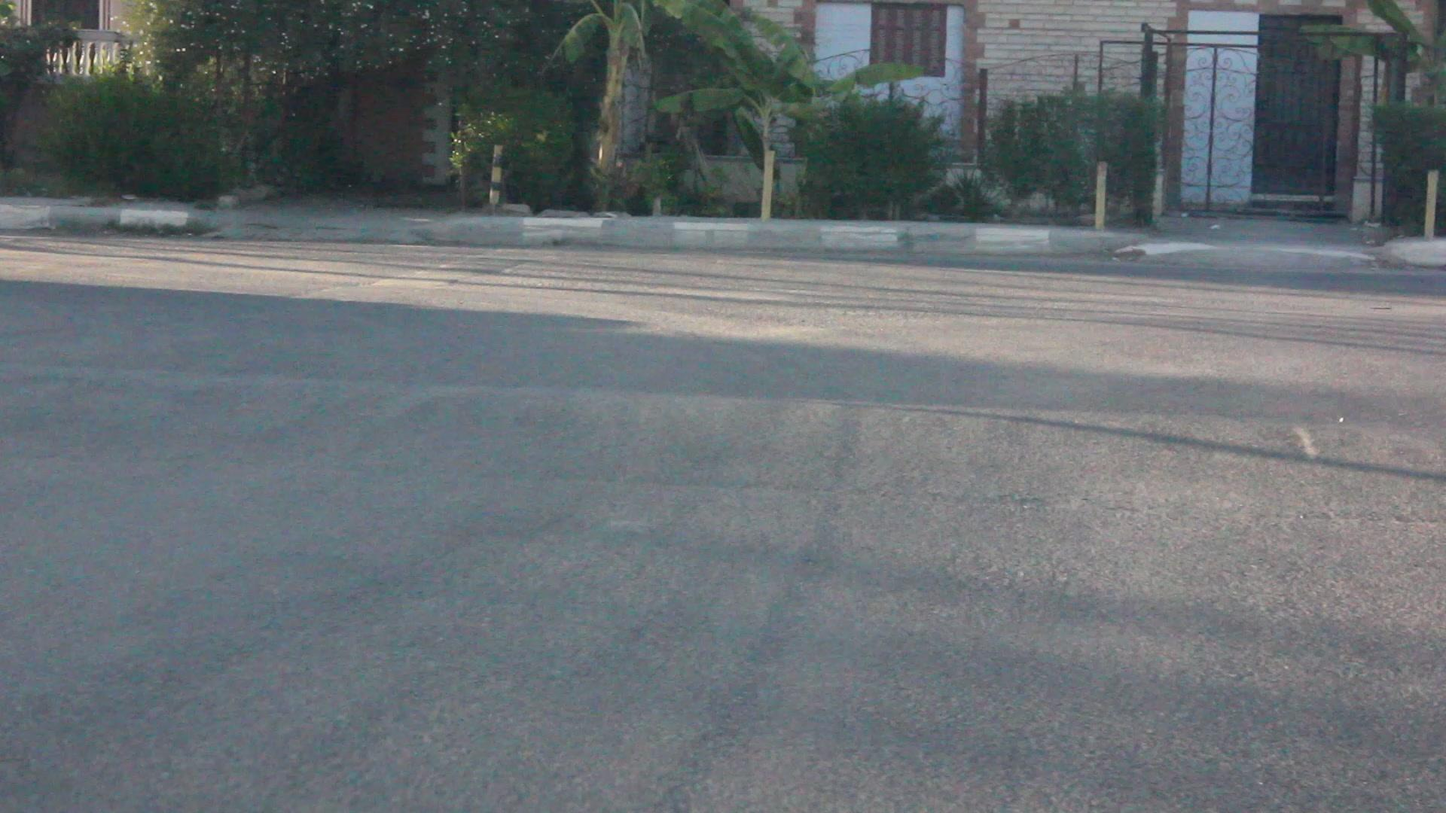Bump: (0, 350, 1446, 544)
